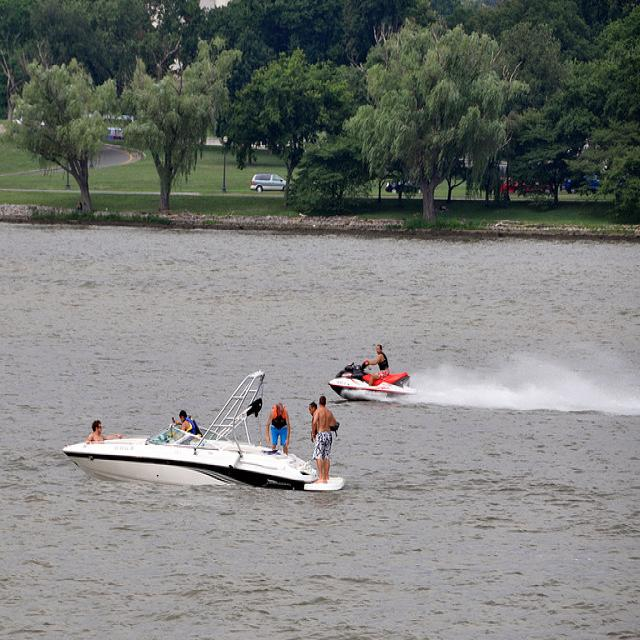Vehicle: (562, 175, 603, 195), (250, 173, 287, 194), (385, 180, 421, 194), (499, 177, 522, 194)
